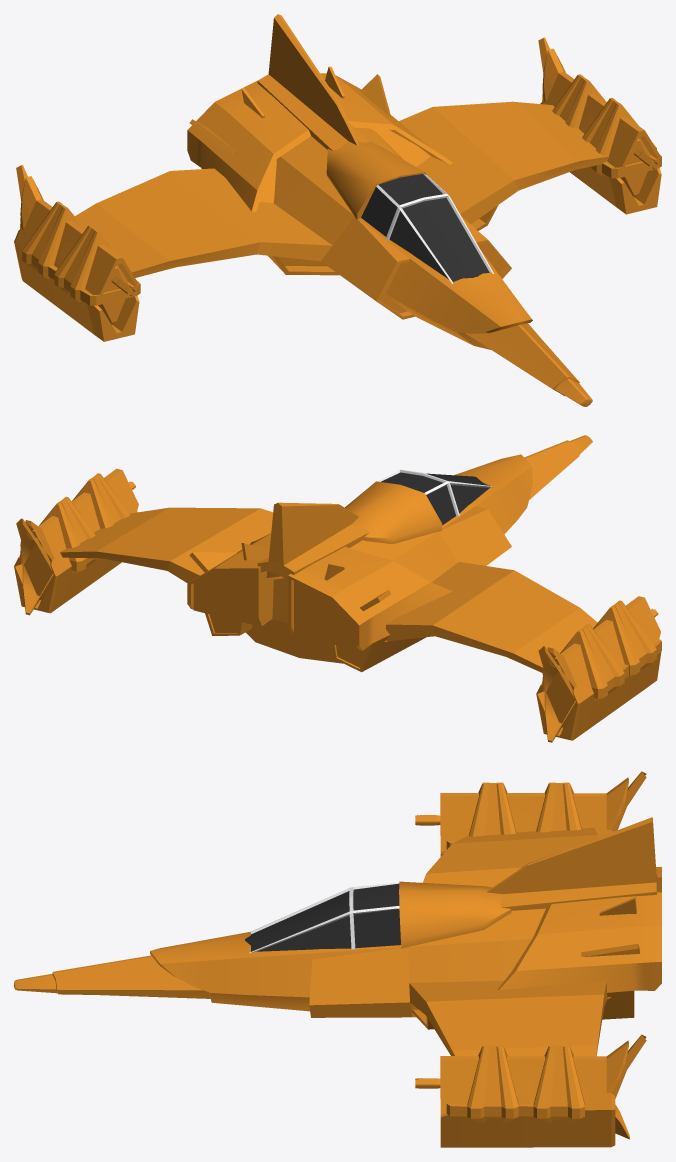
Rendered from X-Wing_fractured.fbx.
3 renders of one model, top to bottom at view 1: azimuth 30°, elevation 25°; view 2: azimuth 150°, elevation 25°; view 3: azimuth 270°, elevation 25°, orthographic. The views are drawn at different scales.
Visible parts, largest first — view 1: Fighter, RightWing, LeftWing; view 2: Fighter, RightWing, LeftWing; view 3: Fighter, LeftWing, RightWing.
Part boxes in pixels (x1,y1,x2,y2): Fighter: (170, 14, 592, 406); RightWing: (14, 165, 260, 341); LeftWing: (433, 37, 661, 214); Fighter: (167, 435, 592, 672); RightWing: (432, 570, 661, 742); LeftWing: (14, 468, 260, 615); Fighter: (14, 817, 661, 1029); LeftWing: (415, 994, 646, 1147); RightWing: (415, 771, 646, 873).
Bounding box in the file's own units: 1662 × 507 × 1553.
